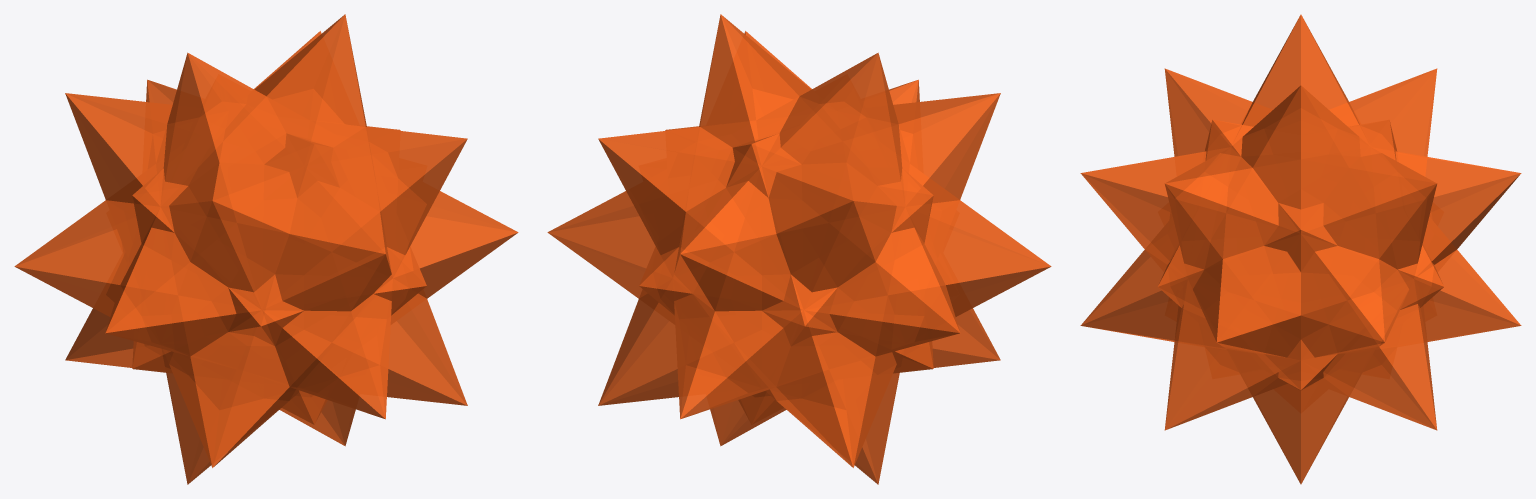
Rendered from GreatIcosacronicHexecontahedron.obj.
3 renders of one model, left to right at view 1: azimuth 30°, elevation 25°; view 2: azimuth 150°, elevation 25°; view 3: azimuth 270°, elevation 25°, orthographic. The views are drawn at different scales.
Size of the model in its own units: 3.62 by 3.62 by 3.62.
